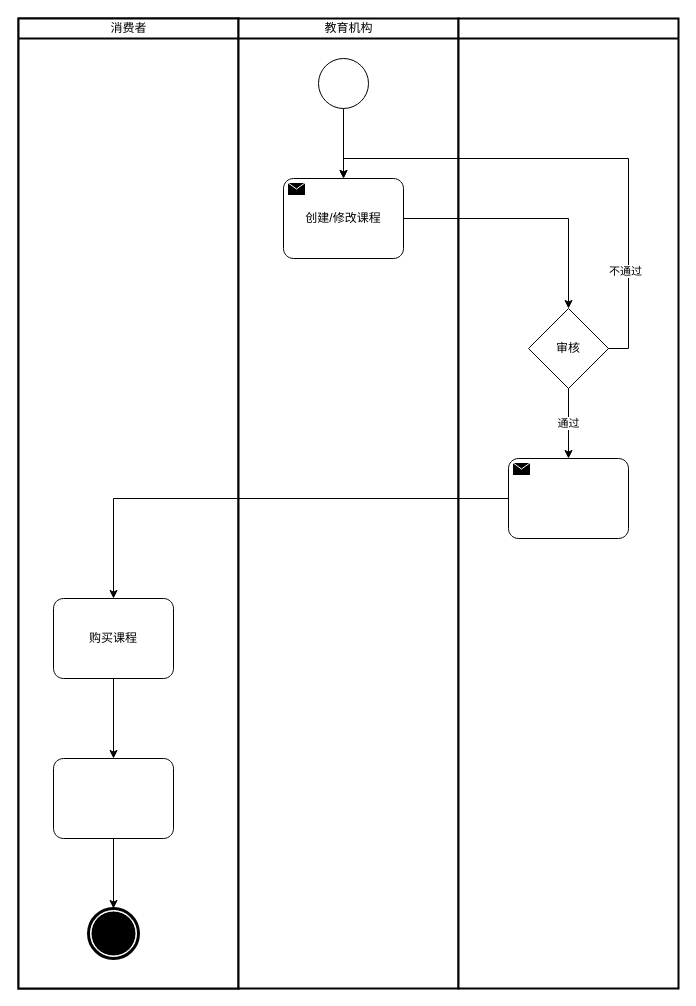
Some shapes in this 696 by 1006 pixel diagram are drawn without their labels. Here are the shapes that lost their labels. From the top down, the box of each, then its label:
(508, 458, 628, 538): 课程上架
(457, 17, 679, 989): 监管机构
(52, 758, 174, 838): 支付
